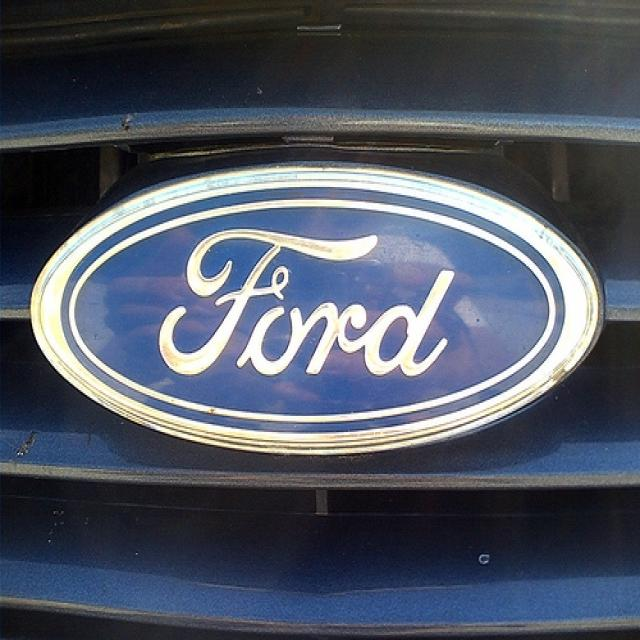ford: (27, 162, 609, 459)
